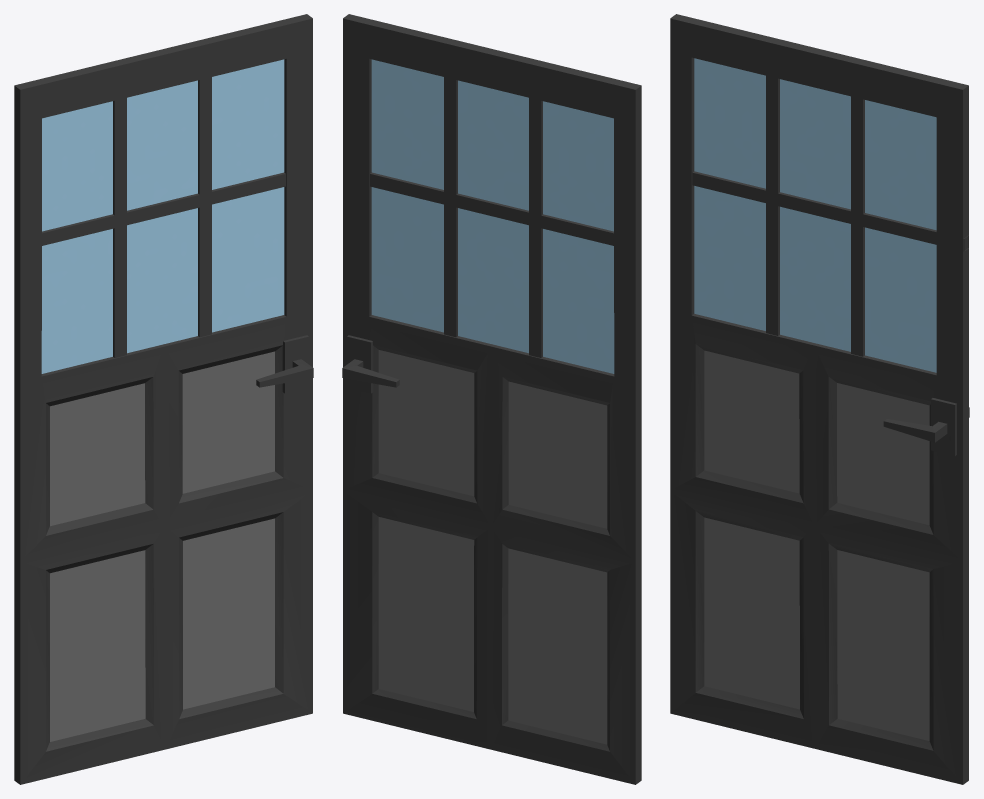
File: door_021.fbx
3 views of the same model, side by side, from view 1: azimuth 30°, elevation 25°; view 2: azimuth 150°, elevation 25°; view 3: azimuth 330°, elevation 25° (orthographic).
Visible parts, largest first — view 1: door_021; view 2: door_021; view 3: door_021.
Boxes of the visible parts, x1,y1,x2,y2 form: door_021: (14, 14, 313, 784); door_021: (342, 14, 641, 784); door_021: (670, 14, 969, 784).
Size of the model in its own units: 104 by 21.25 by 234.
